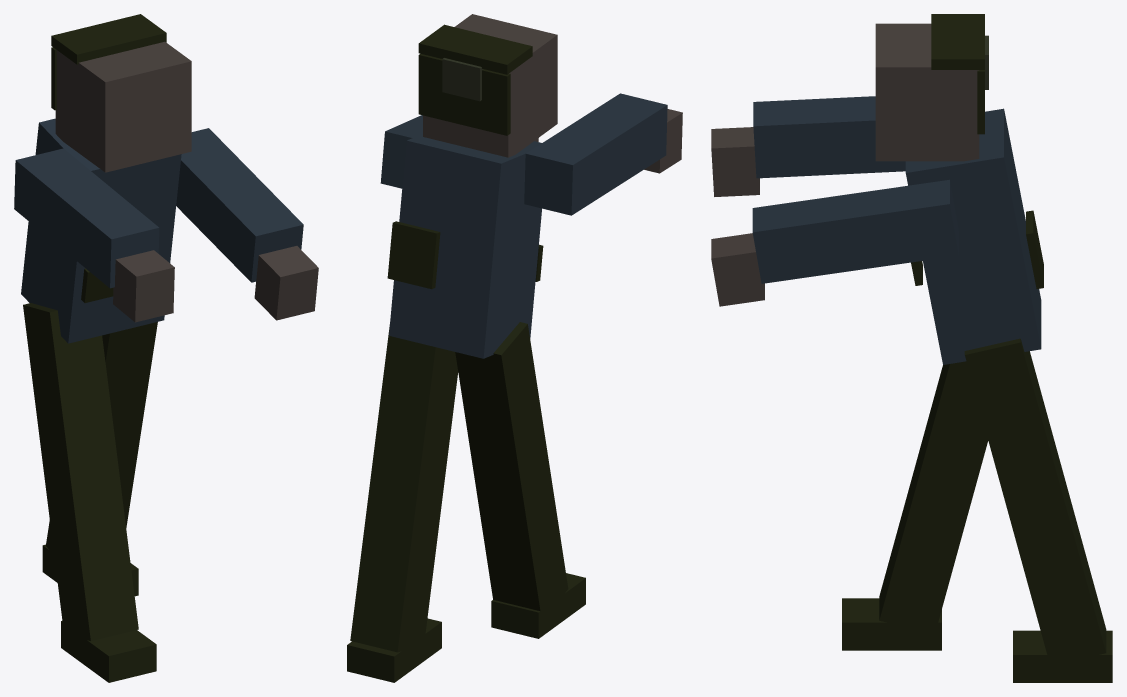
The model's file is SM_zombi_cercano_LOD0.fbx.
The picture shows the model from 3 angles, left to right: view 1: azimuth 30°, elevation 25°; view 2: azimuth 150°, elevation 25°; view 3: azimuth 270°, elevation 25°; orthographic projection. The views are drawn at different scales.
Parts seen in each view (by area): view 1: SM_zombi_cercano_LOD0; view 2: SM_zombi_cercano_LOD0; view 3: SM_zombi_cercano_LOD0.
Boxes of the visible parts, bbox=[...] form: SM_zombi_cercano_LOD0: bbox=[14, 14, 318, 682]; SM_zombi_cercano_LOD0: bbox=[347, 14, 682, 682]; SM_zombi_cercano_LOD0: bbox=[711, 14, 1112, 682].
Size of the model in its own units: 0.6 by 1.77 by 1.05.
